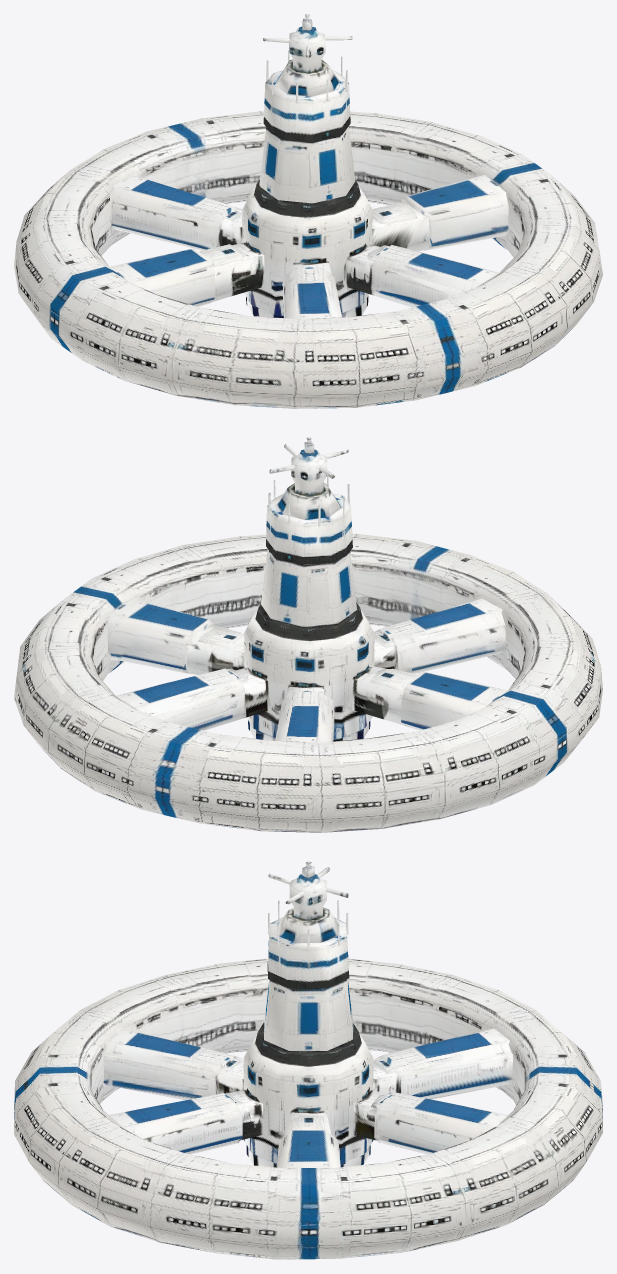
The model's file is station_1.glb.
The picture shows the model from 3 angles, top to bottom: view 1: azimuth 30°, elevation 25°; view 2: azimuth 150°, elevation 25°; view 3: azimuth 270°, elevation 25°; orthographic projection.
Visible parts, largest first — view 1: mesh_node; view 2: mesh_node; view 3: mesh_node.
Part boxes in pixels (bbox=[...]): mesh_node: bbox=[14, 14, 602, 408]; mesh_node: bbox=[14, 437, 602, 832]; mesh_node: bbox=[14, 861, 602, 1259].
Size of the model in its own units: 1 by 0.5488 by 1.
Materials: 1 (1 with a texture image).
